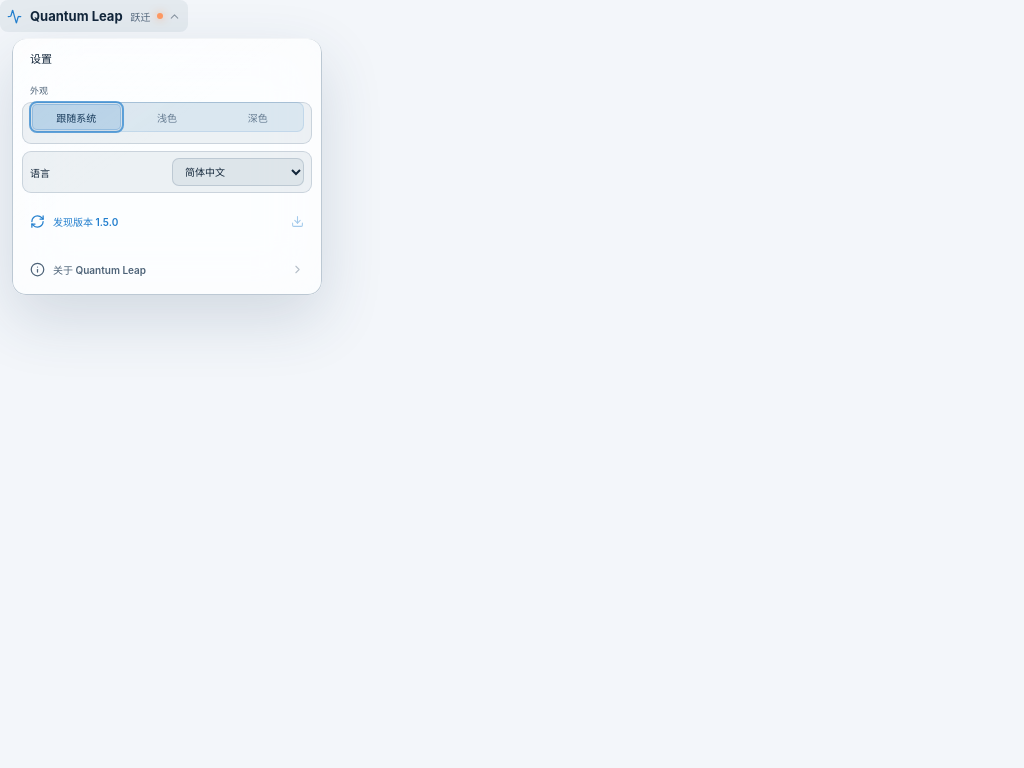
Scenario: application update settings › renders Simplified Chinese update copy
The image size is (1024, 768).
Click the button "发现版本 1.5.0".
click(86, 222)  # box [22,201,312,239]
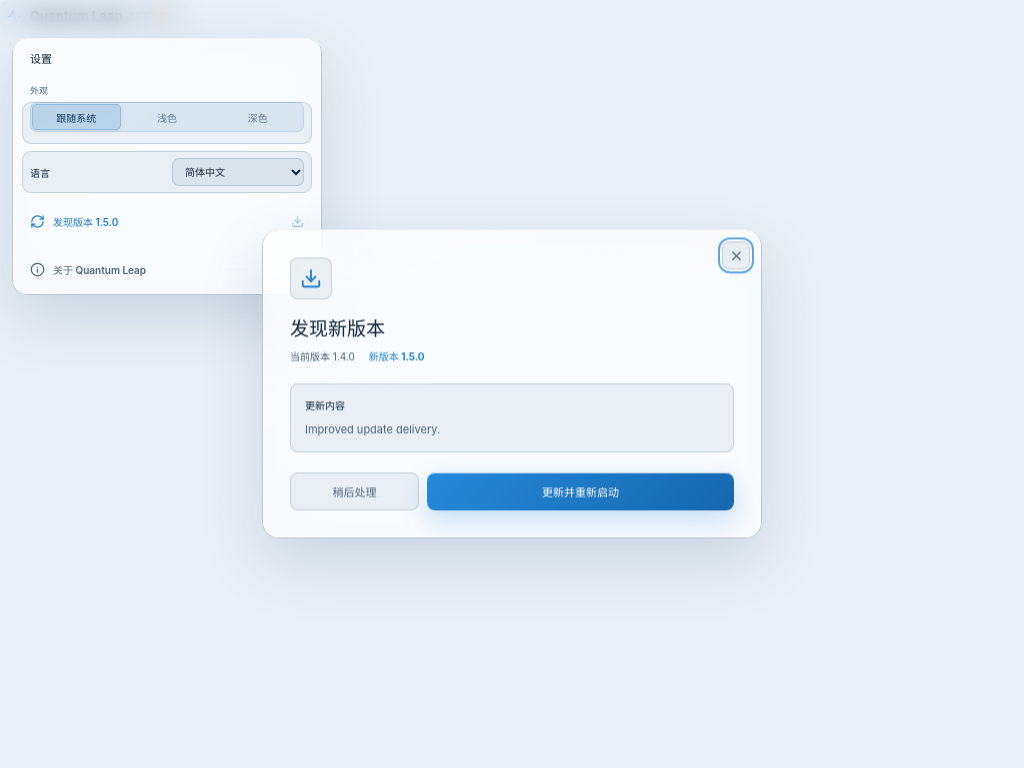
Expected: the dialog "发现新版本" is shown, [262,229,762,538]
Expected: the button "更新并重新启动" is shown, [427,473,734,511]
